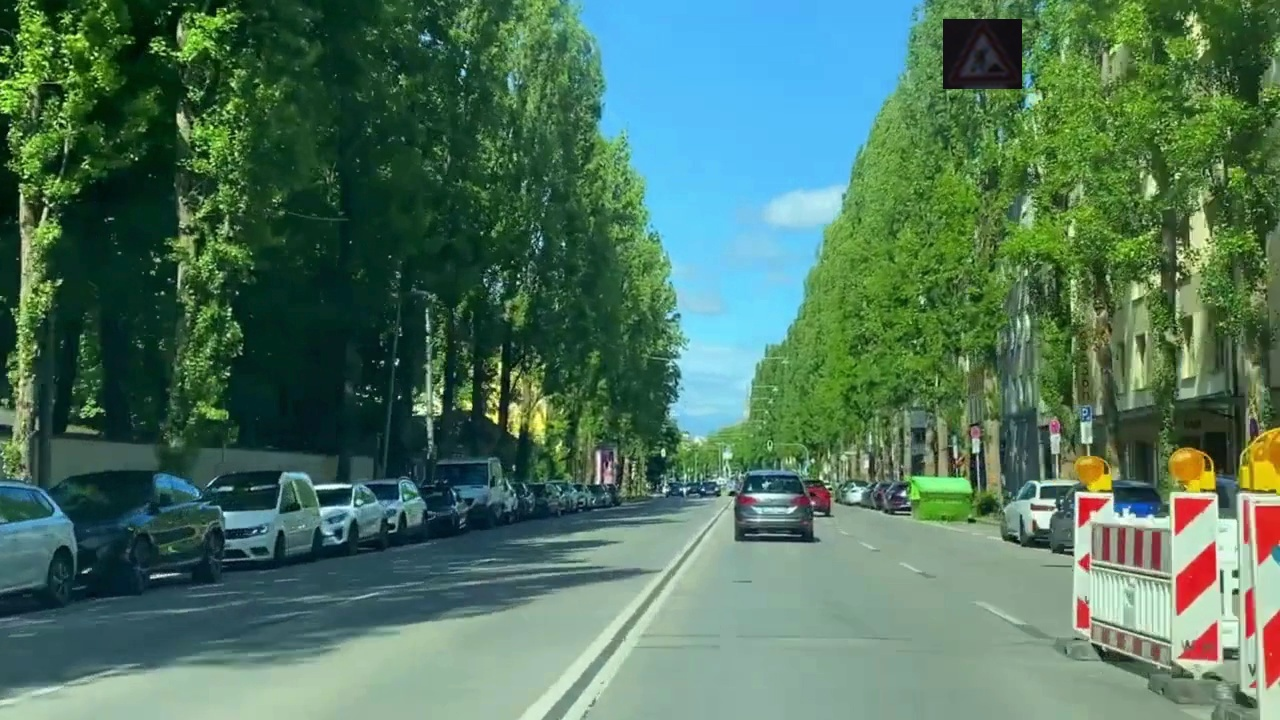Road work: (943, 19, 1022, 89)
